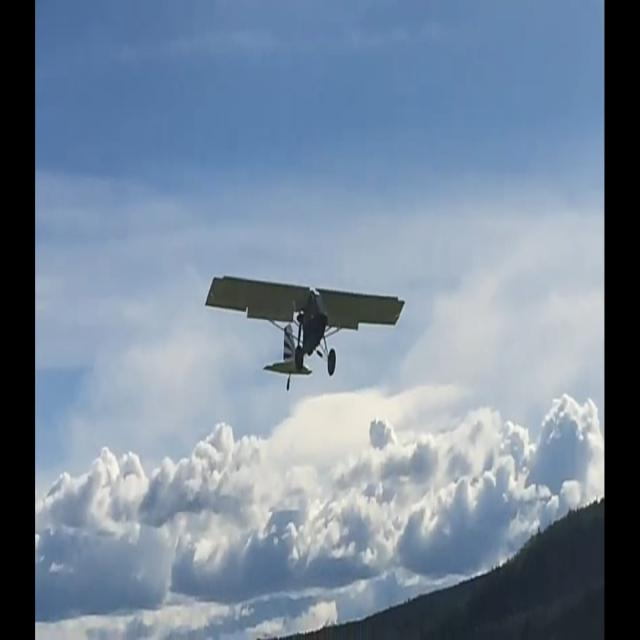iha: (208, 308, 401, 361)
